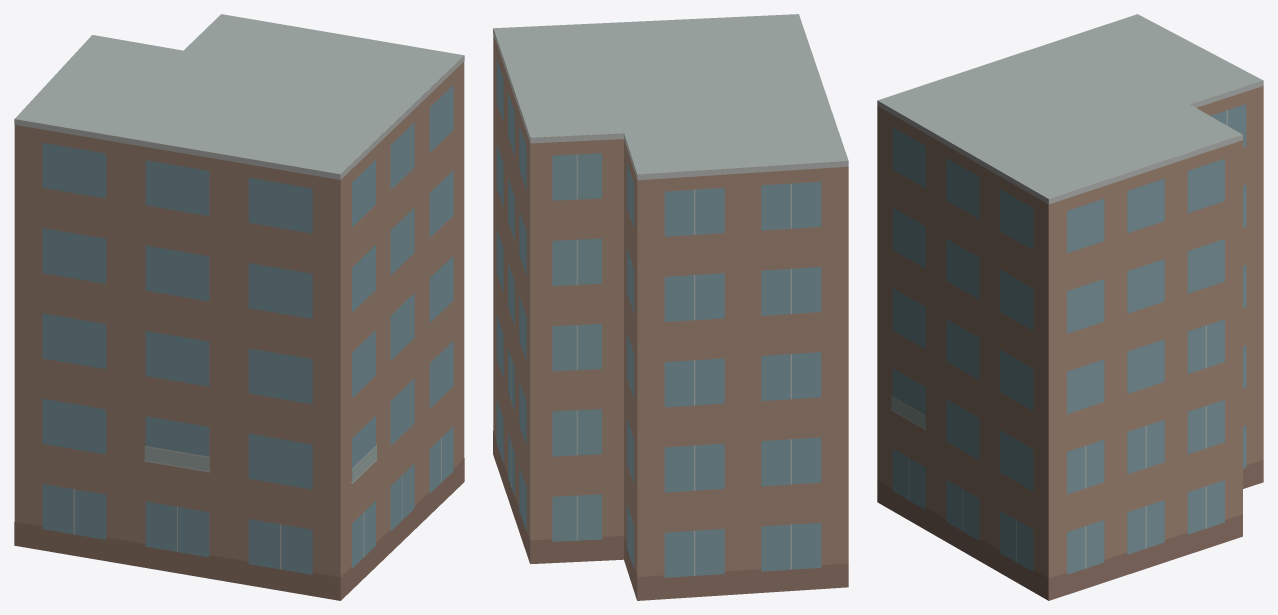
The model's file is survey-upis-32923411.glb.
3 renders of one model, left to right at view 1: azimuth 30°, elevation 25°; view 2: azimuth 150°, elevation 25°; view 3: azimuth 270°, elevation 25°, orthographic. The views are drawn at different scales.
Parts seen in each view (by area): view 1: survey-upis-32923411.tmp; view 2: survey-upis-32923411.tmp; view 3: survey-upis-32923411.tmp.
Part boxes in pixels (x1,y1,x2,y2): survey-upis-32923411.tmp: [14, 14, 464, 600]; survey-upis-32923411.tmp: [493, 14, 848, 600]; survey-upis-32923411.tmp: [877, 14, 1263, 600].
Bounding box in the file's own units: 17.99 × 18.2 × 15.87.
